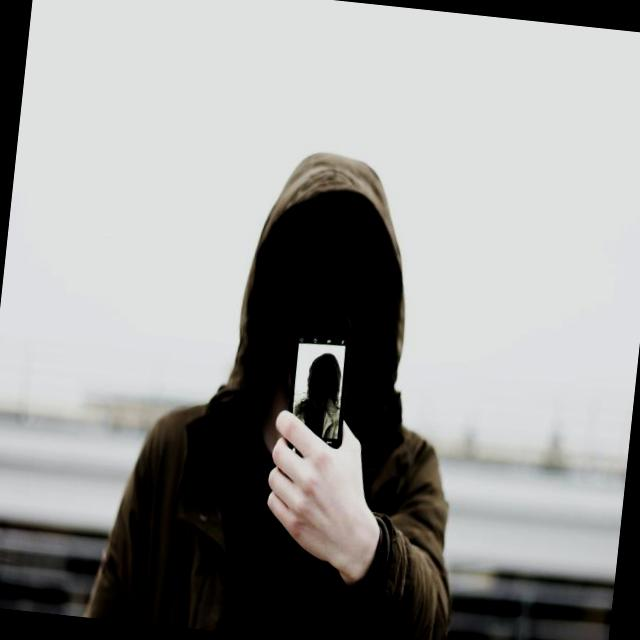person: (82, 130, 499, 640)
